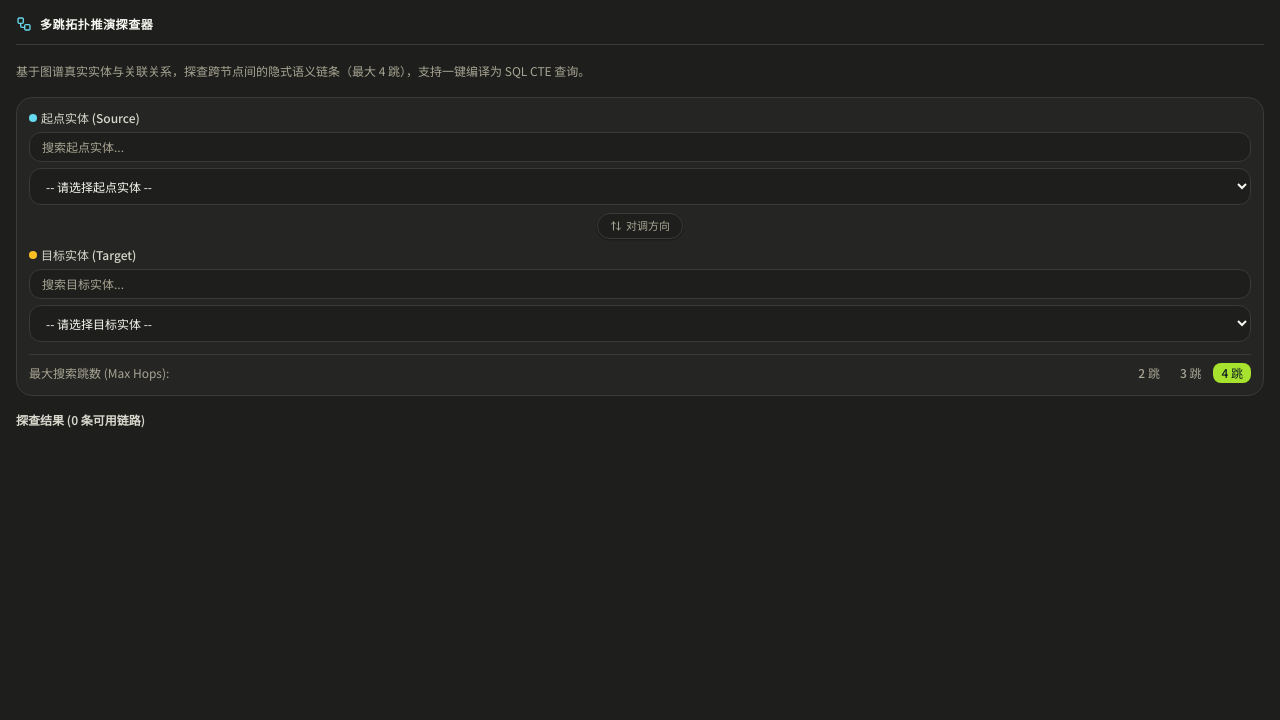
MultiHopDeductionExplorer Component › swaps source and target when swap button is clicked
Select "用户A (用户)" in the dropdown showing "-- 请选择起点实体 --" below "起点实体 (Source)" at point(640, 186), box [29,168,1251,204]
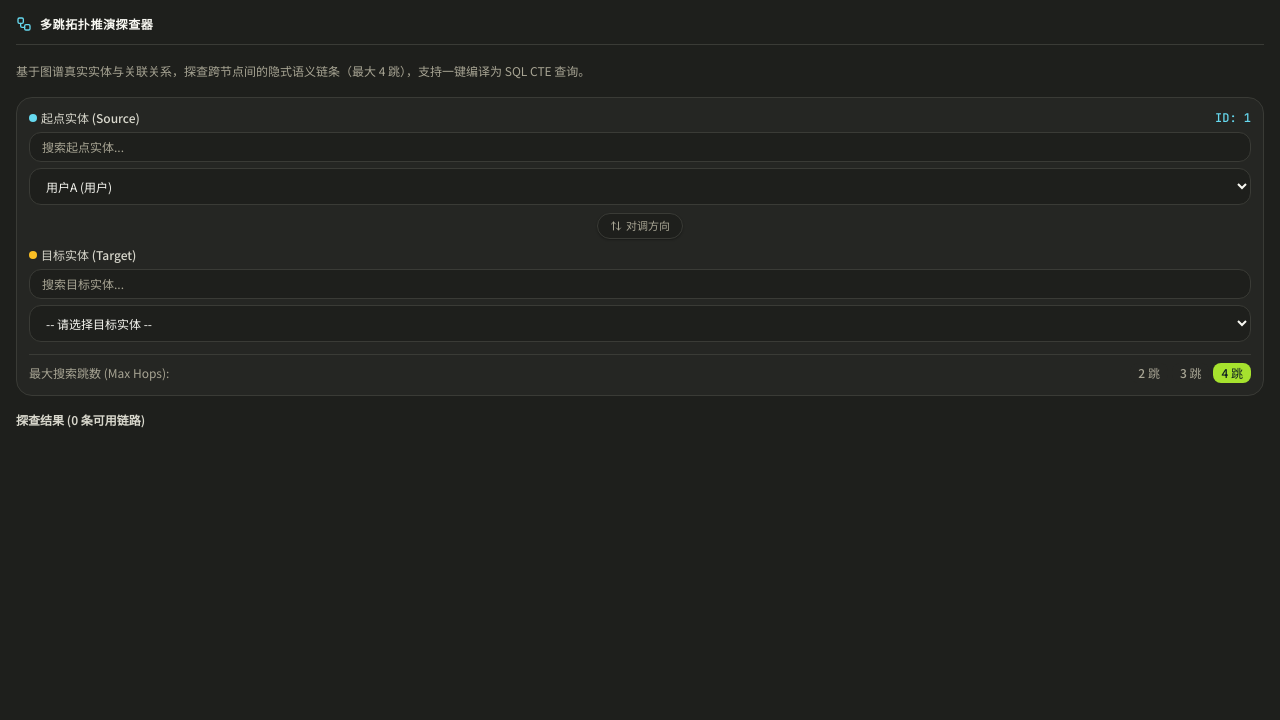
Select "商品C (商品)" in the dropdown showing "-- 请选择目标实体 --" below "目标实体 (Target)" at point(640, 323), box [29,304,1251,342]
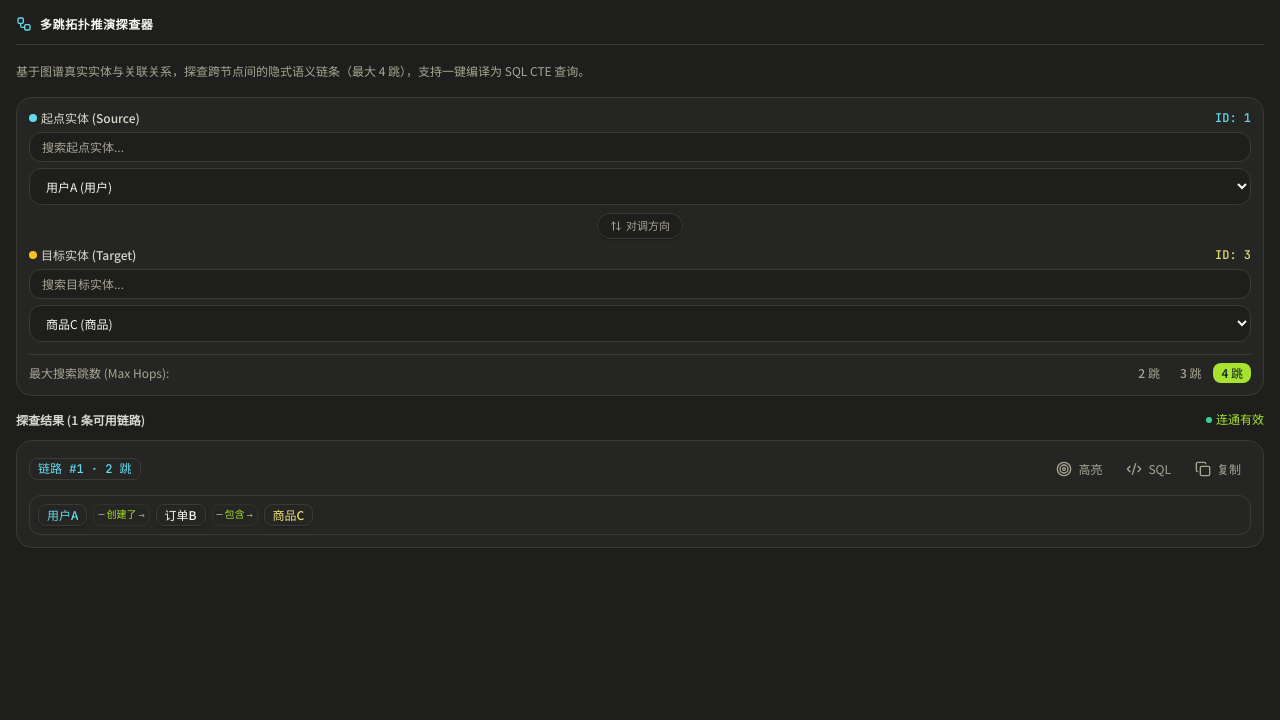
Click swap button
Click the button "对调方向".
click(640, 226)  # box [597,212,683,238]
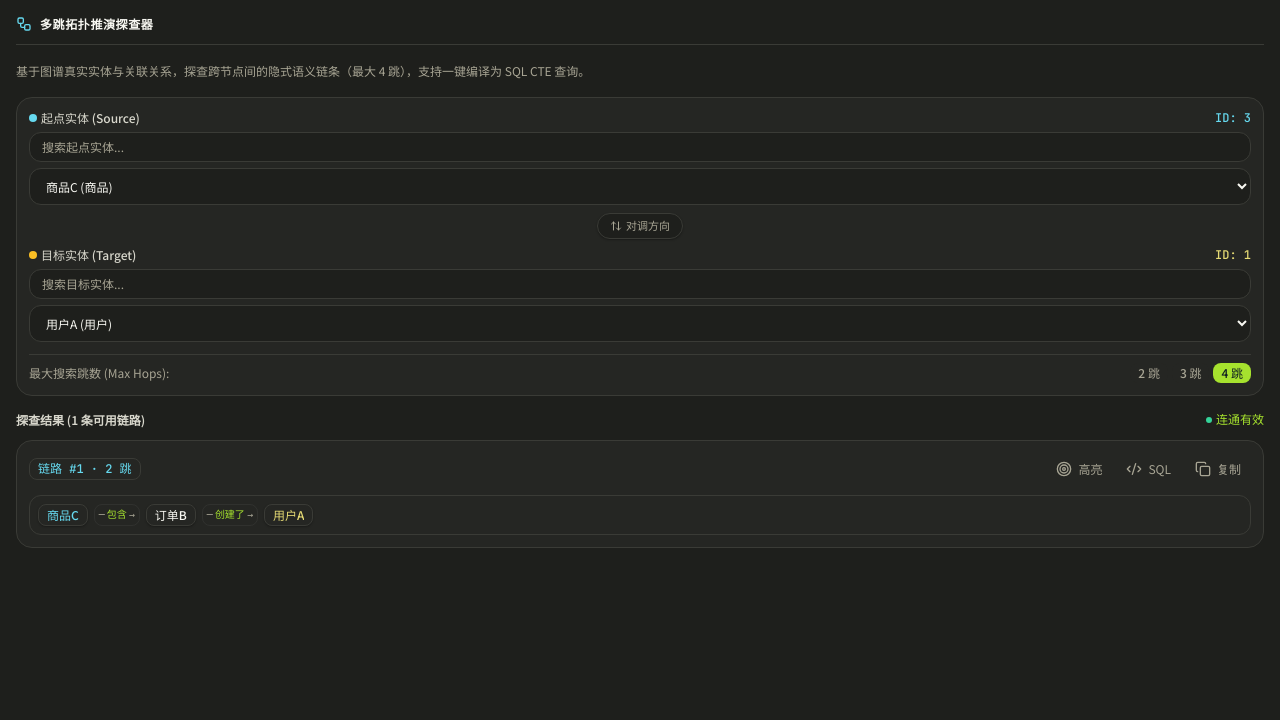
Expected: the text "ID: 3" is shown, [1215,110,1251,126]
Expected: the text "ID: 1" is shown, [1215,246,1251,262]
